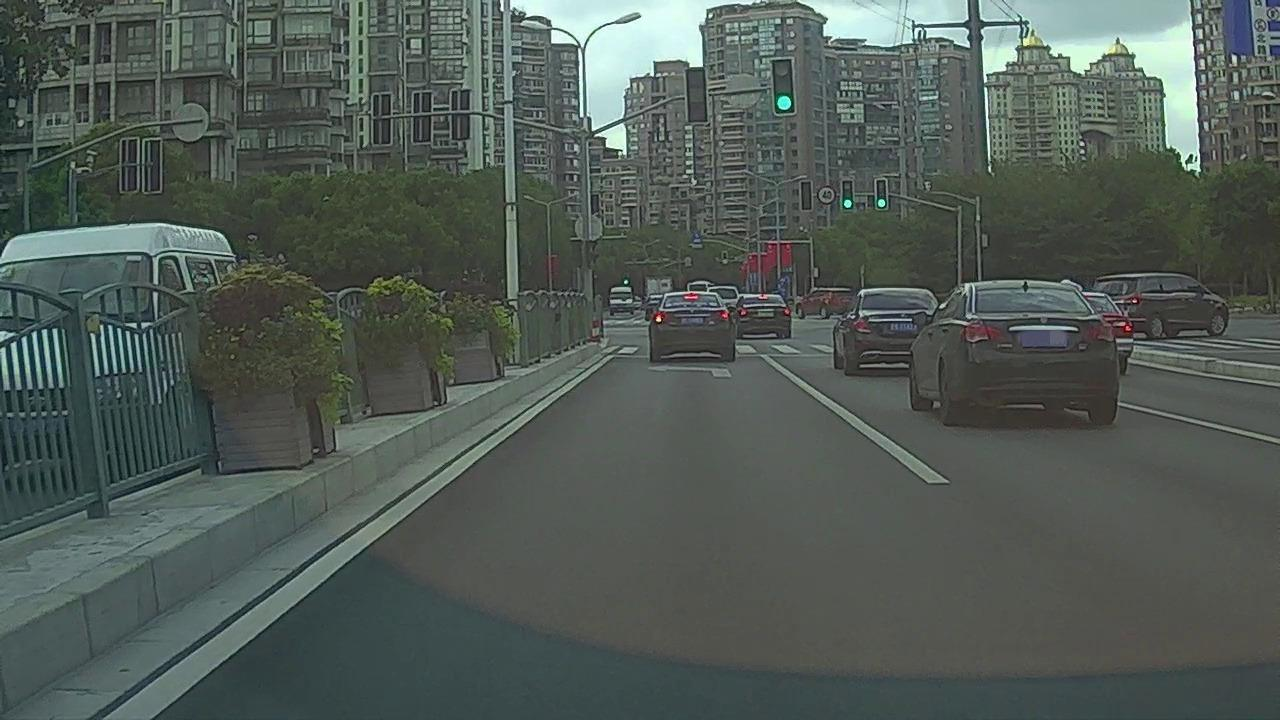traffic_light: (774, 60, 794, 115), (687, 70, 705, 122), (799, 181, 811, 210), (843, 181, 854, 209), (876, 180, 887, 208)
